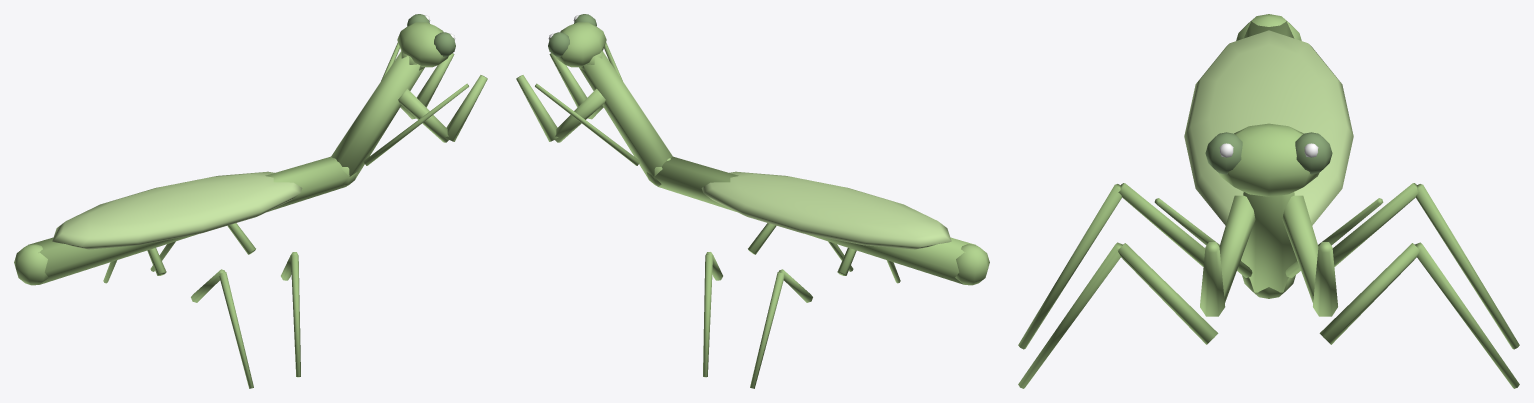
The model's file is giant-asian-mantis.glb.
3 views of the same model, side by side, from view 1: azimuth 30°, elevation 25°; view 2: azimuth 150°, elevation 25°; view 3: azimuth 270°, elevation 25° (orthographic). The views are drawn at different scales.
Parts seen in each view (by area): view 1: e; view 2: e; view 3: e.
Part boxes in pixels (x1,y1,x2,y2): e: [14, 14, 487, 388]; e: [516, 14, 989, 388]; e: [1018, 14, 1519, 388].
Size of the model in its own units: 0.5657 by 0.2978 by 0.3197.
